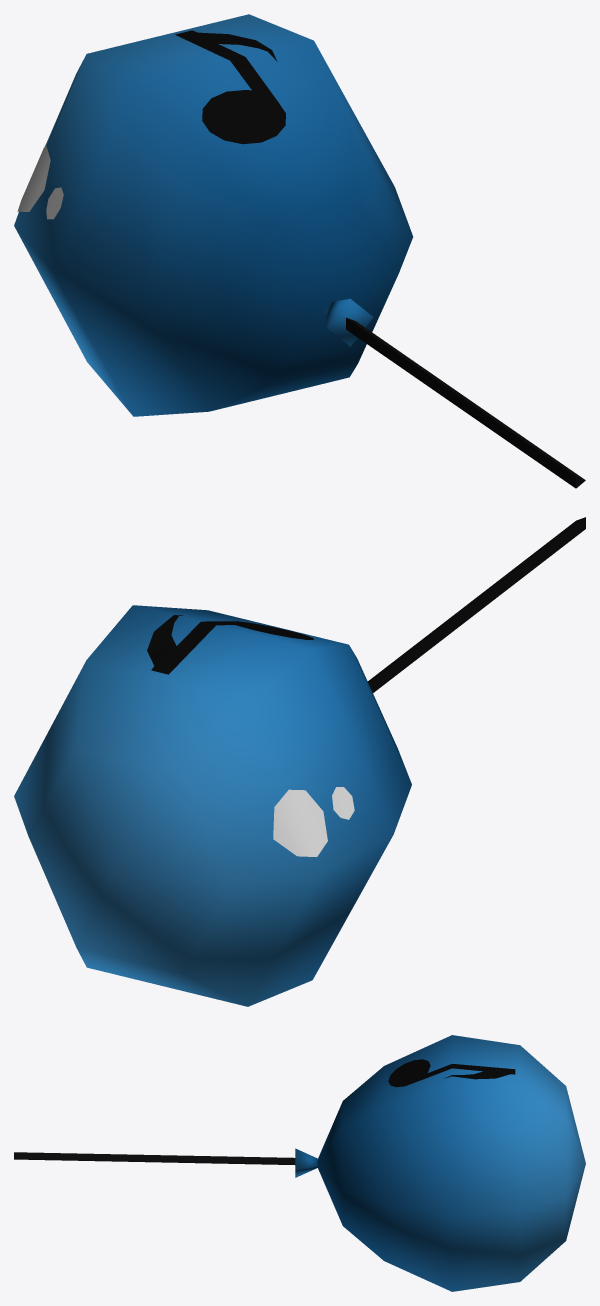
Rendered from BlueBallon2.fbx.
3 renders of one model, top to bottom at view 1: azimuth 30°, elevation 25°; view 2: azimuth 150°, elevation 25°; view 3: azimuth 270°, elevation 25°, orthographic. The views are drawn at different scales.
Visible parts, largest first — view 1: BlueBallon2; view 2: BlueBallon2; view 3: BlueBallon2.
Part boxes in pixels (x1,y1,x2,y2): BlueBallon2: (14, 14, 585, 488); BlueBallon2: (14, 517, 585, 1006); BlueBallon2: (14, 1035, 585, 1291).
Size of the model in its own units: 54.73 by 50.76 by 129.
